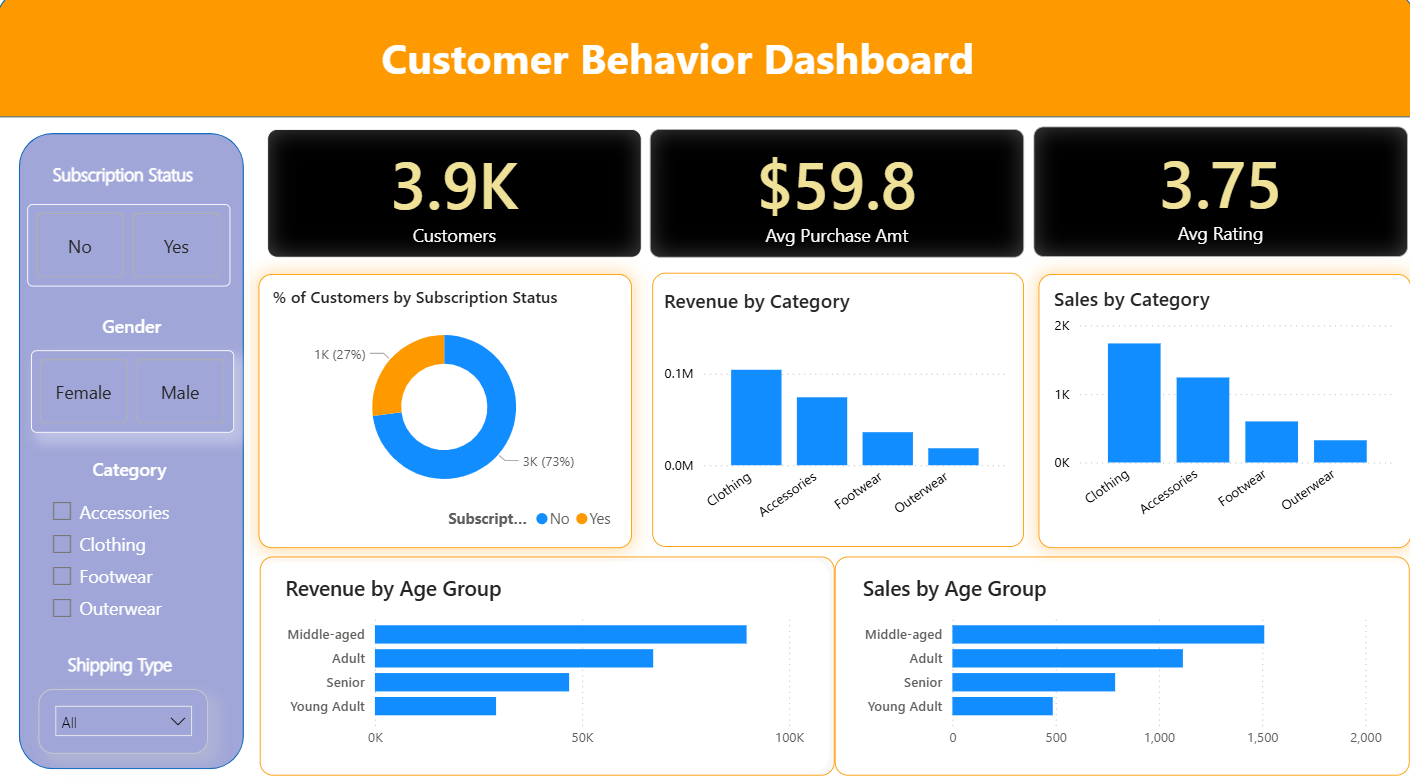

The dashboard page shown, as its layout file describes it:
{"tool":"powerbi","page":{"name":"Page 1","canvas":[1280,720],"ordinal":0},"visuals":[{"type":"card","fields":{"Values":["customer_behavior customer.Number of Customers"]},"box":[244.5,125.8,337.7,115.9],"z":0},{"type":"card","fields":{"Values":["customer_behavior customer.Avg Purchase Amt"]},"box":[589.3,125.8,337.7,115.9],"z":1000},{"type":"card","fields":{"Values":["customer_behavior customer.Avg review rarting"]},"box":[935,123.8,337.5,117.5],"z":2000},{"type":"shape","box":[0,0,1280.3,115.9],"z":3000},{"type":"textbox","box":[267.1,31.6,695.4,64.2],"z":4000},{"type":"shape","box":[591.7,256.3,335.4,247.3],"z":5000},{"type":"shape","box":[940,257,336,247],"z":6000},{"type":"shape","box":[237.1,257.4,336.5,247.3],"z":7000},{"type":"shape","box":[16.2,125.3,212.9,583.5],"z":8000},{"type":"textbox","box":[45.8,150.9,153.6,39.1],"z":9000},{"type":"advancedSlicerVisual","fields":{"Values":["customer_behavior customer.Subscription Status"]},"box":[28.3,194.1,183.3,74.1],"z":10000},{"type":"textbox","box":[43.1,287.1,159,39.1],"z":11000},{"type":"advancedSlicerVisual","fields":{"Values":["customer_behavior customer.Gender"]},"box":[31,326.1,183.3,74.1],"z":12000},{"type":"textbox","box":[43.8,416.9,152.6,39.6],"z":13000},{"type":"textbox","box":[60,592.9,141.4,38.6],"z":14000},{"type":"slicer","fields":{"Values":["customer_behavior customer.Shipping Type"]},"box":[38.6,631.4,152.9,58.6],"z":15000},{"type":"clusteredColumnChart","title":"Revenue by Category","fields":{"Y":["Sum(customer_behavior customer.Purchase Amount (USD))"],"Category":["customer_behavior customer.Category"]},"box":[597.3,269.9,319.6,229.2],"z":16000},{"type":"clusteredColumnChart","title":"Sales by Category","fields":{"Category":["customer_behavior customer.Category"],"Y":["CountNonNull(customer_behavior customer.Customer ID)"]},"box":[948.6,267.1,319,229],"z":17000},{"type":"donutChart","title":"% of Customers by Subscription Status","fields":{"Category":["customer_behavior customer.Subscription Status"],"Y":["Count(customer_behavior customer.Customer ID)"]},"box":[245,267.6,319.6,229.2],"z":18000},{"type":"shape","box":[237.4,511.5,518.6,197.8],"z":19000},{"type":"clusteredBarChart","title":"Revenue by Age Group","fields":{"Category":["customer_behavior customer.Age Group"],"Y":["Sum(customer_behavior customer.Purchase Amount (USD))"]},"box":[256,527.9,478.5,166],"z":20000},{"type":"shape","box":[756,511.5,518.6,197.8],"z":21000},{"type":"clusteredBarChart","title":"Sales by Age Group","fields":{"Category":["customer_behavior customer.Age Group"],"Y":["CountNonNull(customer_behavior customer.Customer ID)"]},"box":[776.8,527.9,478.5,166],"z":22000},{"type":"slicer","fields":{"Values":["customer_behavior customer.Category"]},"box":[38.1,452.5,165,151.2],"z":23000}]}

Visuals, with their boxes in screenshot pixels (x1, y1, x2, y2), scaled from the page's 1280x720 canvas onto the 1410x781 screenshot:
card - customer_behavior customer.Number of Customers: bbox(269, 136, 641, 262)
card - customer_behavior customer.Avg Purchase Amt: bbox(649, 136, 1021, 262)
card - customer_behavior customer.Avg review rarting: bbox(1030, 134, 1402, 262)
shape: bbox(0, 0, 1409, 126)
textbox: bbox(294, 34, 1060, 104)
shape: bbox(652, 278, 1021, 546)
shape: bbox(1035, 279, 1406, 547)
shape: bbox(261, 279, 632, 547)
shape: bbox(18, 136, 252, 769)
textbox: bbox(50, 164, 220, 206)
advancedSlicerVisual - customer_behavior customer.Subscription Status: bbox(31, 211, 233, 291)
textbox: bbox(47, 311, 223, 354)
advancedSlicerVisual - customer_behavior customer.Gender: bbox(34, 354, 236, 434)
textbox: bbox(48, 452, 216, 495)
textbox: bbox(66, 643, 222, 685)
slicer - customer_behavior customer.Shipping Type: bbox(43, 685, 211, 748)
"Revenue by Category" clusteredColumnChart: bbox(658, 293, 1010, 541)
"Sales by Category" clusteredColumnChart: bbox(1045, 290, 1396, 538)
"% of Customers by Subscription Status" donutChart: bbox(270, 290, 622, 539)
shape: bbox(262, 555, 833, 769)
"Revenue by Age Group" clusteredBarChart: bbox(282, 573, 809, 753)
shape: bbox(833, 555, 1404, 769)
"Sales by Age Group" clusteredBarChart: bbox(856, 573, 1383, 753)
slicer - customer_behavior customer.Category: bbox(42, 491, 224, 655)
